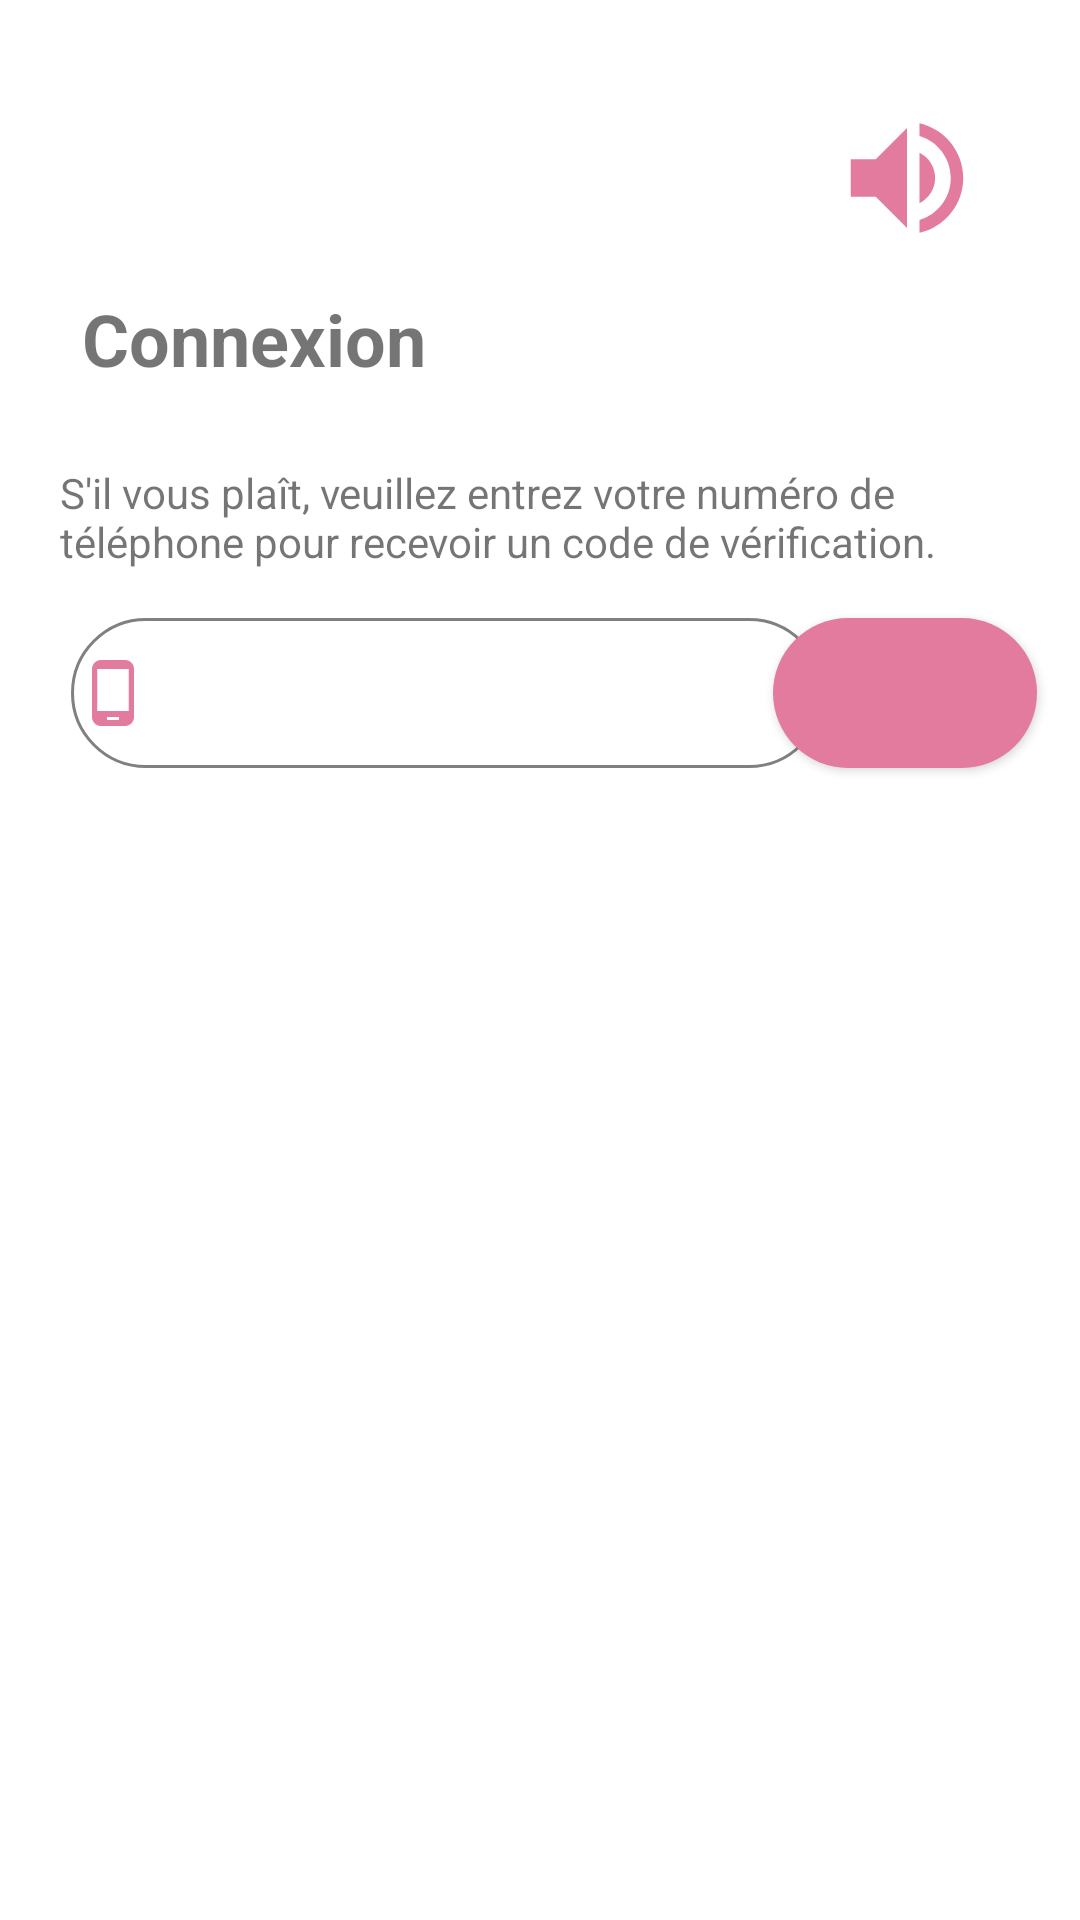

Icon bounding boxes for this 1080*1920 phone screenshot, format (left=x1, top=y1, right=x2, bottom=y2):
volume up: (left=850, top=123, right=964, bottom=233)
